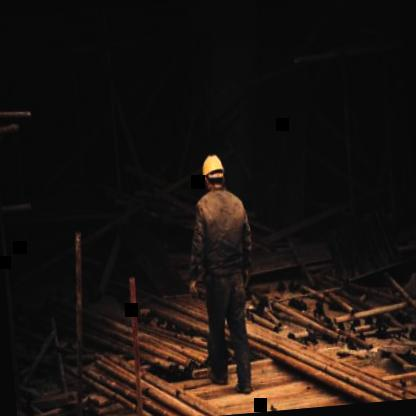helmet: (199, 150, 228, 194)
